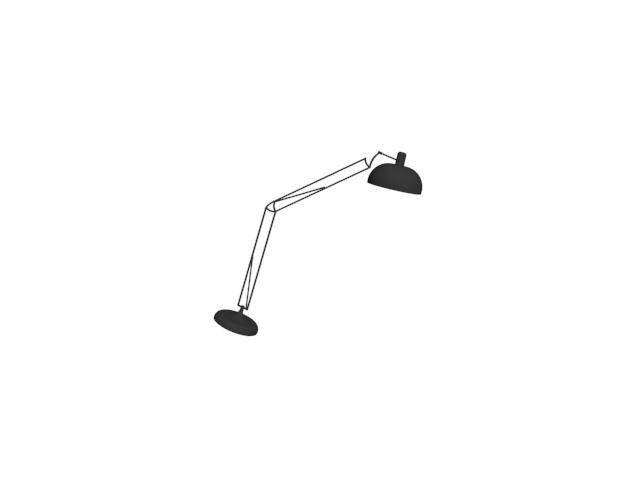desk_lamp: (209, 145, 424, 344)
